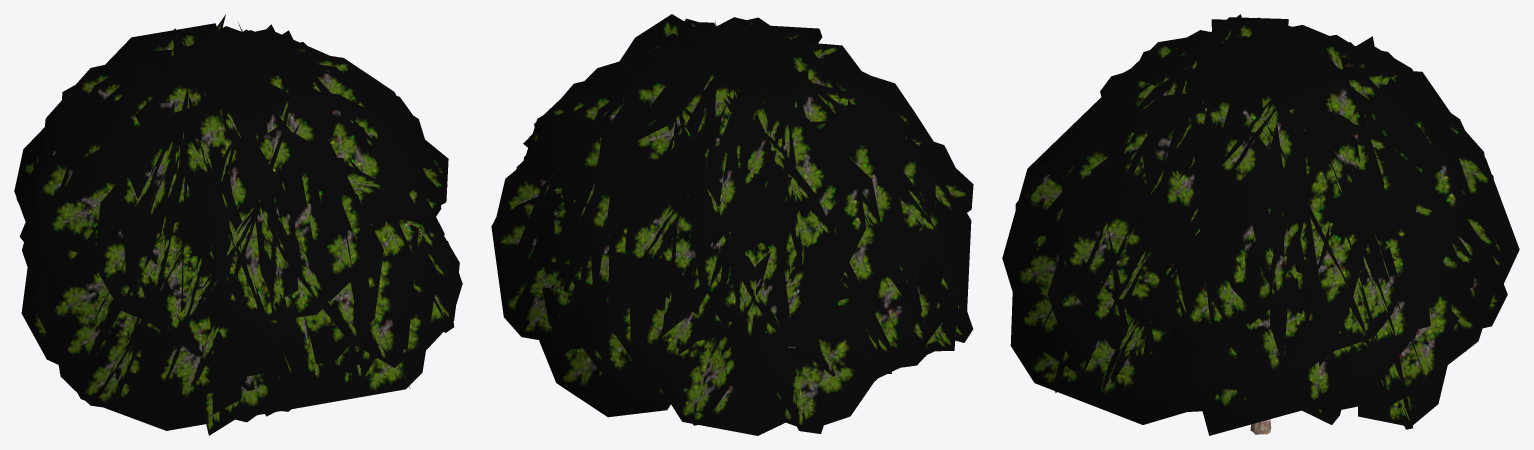
File: tree4.fbx
The picture shows the model from 3 angles, left to right: view 1: azimuth 30°, elevation 25°; view 2: azimuth 150°, elevation 25°; view 3: azimuth 270°, elevation 25°; orthographic projection. The views are drawn at different scales.
Visible parts, largest first — view 1: Tree_LOD0; view 2: Tree_LOD0; view 3: Tree_LOD0.
Part boxes in pixels (box(x1,y1,x2,y2)): Tree_LOD0: box(14, 14, 462, 435); Tree_LOD0: box(491, 14, 973, 435); Tree_LOD0: box(1002, 14, 1519, 435).
Size of what is drawn, in the model's own units: 1667 by 1393 by 1667.
